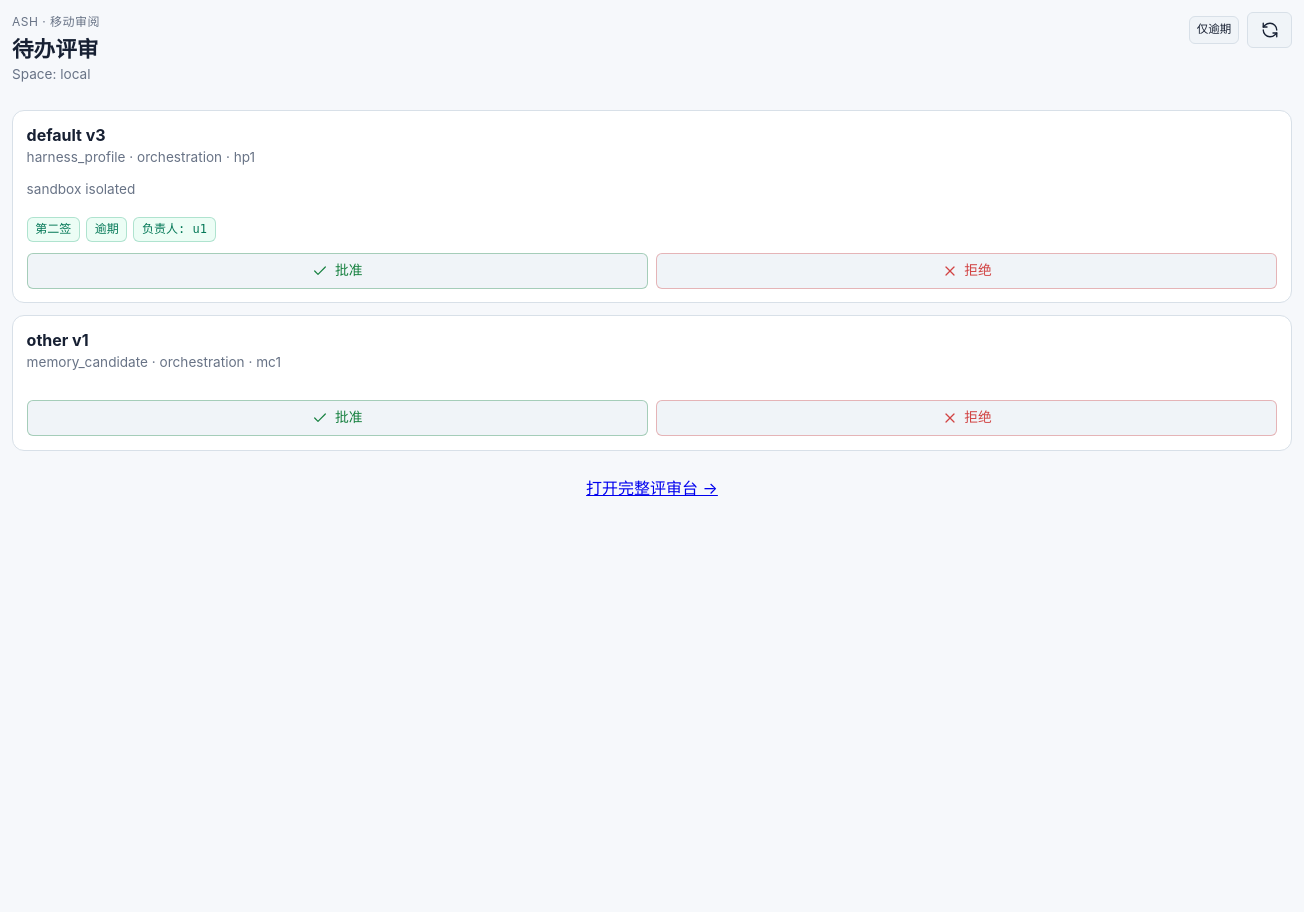
Scenario: MobileReviewsPage › shows assign-denied copy without reviews:assign
The width and height of the screenshot is (1304, 912).
Step 1. Click the text "default v3" → (66,135), box [27,125,106,145]
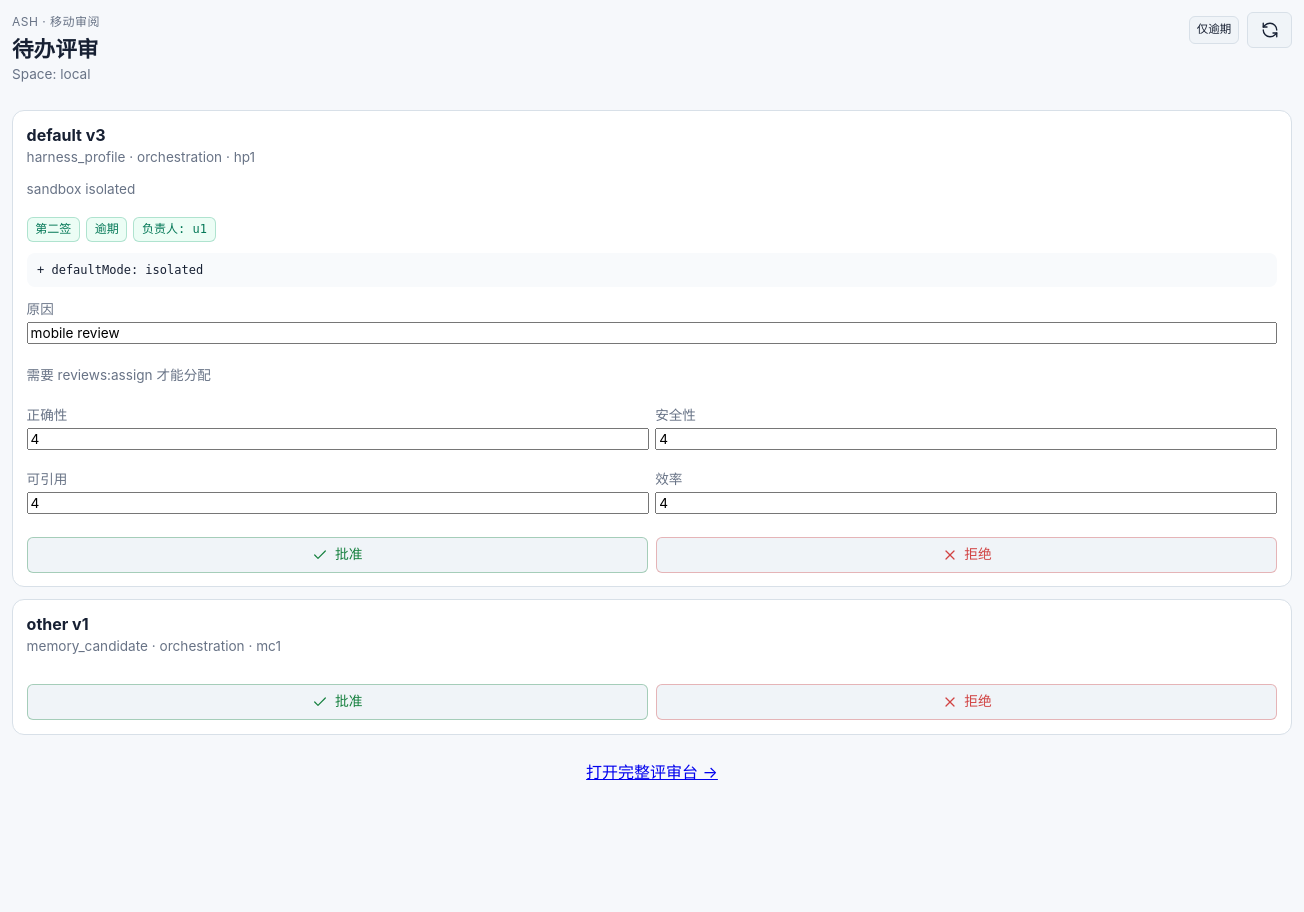
Result: the text with test id "mobile-reviews-assign-denied" shows "reviews:assign" at [27,367,211,383]
